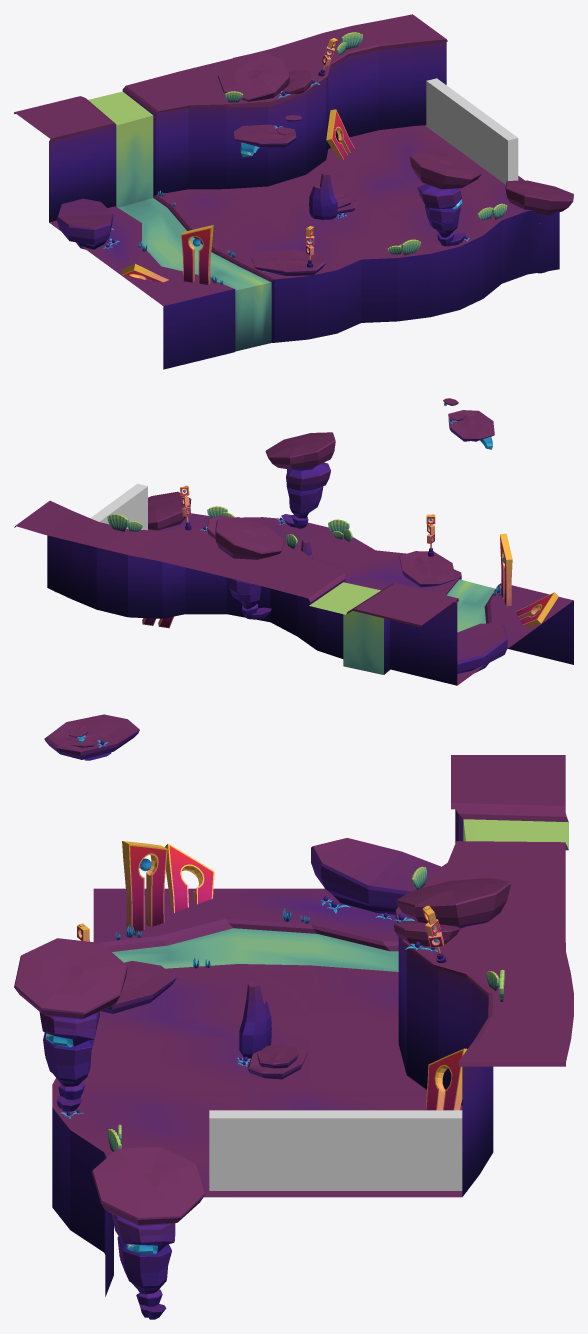
File: Level01.gltf
The picture shows the model from 3 angles, top to bottom: view 1: azimuth 30°, elevation 25°; view 2: azimuth 150°, elevation 25°; view 3: azimuth 270°, elevation 25°; orthographic projection. The views are drawn at different scales.
Visible parts, largest first — view 1: Plane, Cube, Tall Cliff, Tall Cliff.001, Horizontal Cliff, Tall Cliff.003, Floating Rock.003, Arch 1, Floating Rock, Curved Rock, Arch 1.002, Tall Cliff.002 (+1 smaller); view 2: Plane, Tall Cliff, Tall Cliff.001, Horizontal Cliff, Floating Rock.003, Cube, Tall Cliff.003, Floating Rock, Arch 1.001, Arch 1; view 3: Plane, Cube, Tall Cliff.003, Tall Cliff, Horizontal Cliff, Tall Cliff.001, Arch 1, Floating Rock, Arch 1.001, Floating Rock.003, Curved Rock, Arch 1.002 (+3 smaller).
Part boxes in pixels (x1,y1,x2,y2): Plane: (14,14,559,369); Cube: (426,78,518,184); Tall Cliff: (410,150,481,246); Tall Cliff.001: (217,51,289,101); Horizontal Cliff: (56,198,113,249); Tall Cliff.003: (505,180,573,273); Floating Rock.003: (252,249,325,275); Arch 1: (181,225,213,284); Floating Rock: (233,124,296,157); Curved Rock: (309,172,337,219); Arch 1.002: (326,109,354,159); Tall Cliff.002: (280,69,312,94); Plane: (14,500,573,685); Tall Cliff: (265,432,335,528); Tall Cliff.001: (215,517,283,619); Horizontal Cliff: (457,623,507,673); Floating Rock.003: (399,551,455,587); Cube: (54,483,147,592); Tall Cliff.003: (148,491,191,530); Floating Rock: (448,410,494,449); Arch 1.001: (516,592,558,626); Arch 1: (500,533,512,606); Plane: (52,755,573,1296); Cube: (209,1110,467,1191); Tall Cliff.003: (91,1147,205,1319); Tall Cliff: (14,938,127,1111); Horizontal Cliff: (311,838,441,914); Tall Cliff.001: (396,878,510,928); Arch 1: (122,841,167,932); Floating Rock: (44,714,139,760); Arch 1.001: (165,843,214,912); Floating Rock.003: (101,960,176,1013); Curved Rock: (239,982,271,1058); Arch 1.002: (425,1048,467,1110).
Bounding box in the file's own units: 794 × 407 × 554.
10 materials, 10 textured.
